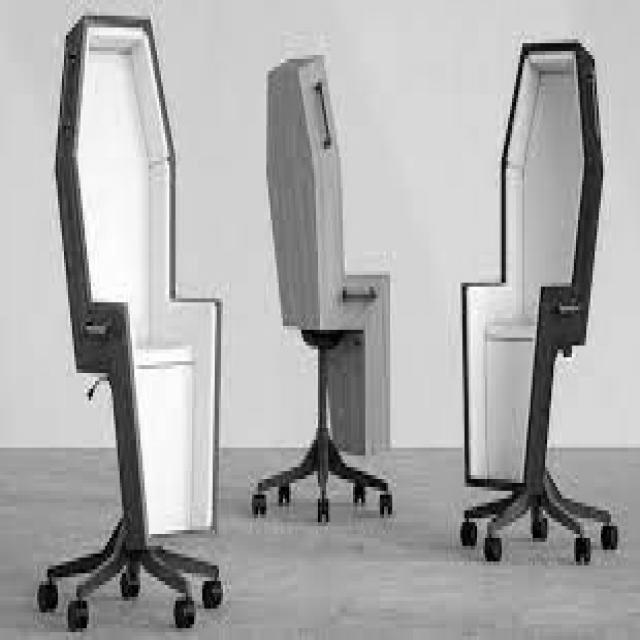chair: (32, 12, 225, 636), (456, 39, 620, 572), (251, 46, 394, 527)
